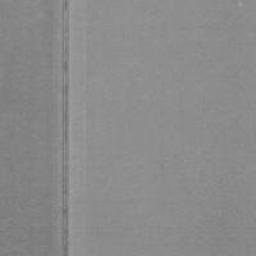Welding line: (59, 0, 72, 256)
